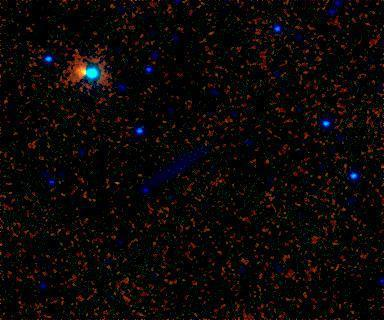star: (67, 56, 97, 86)
